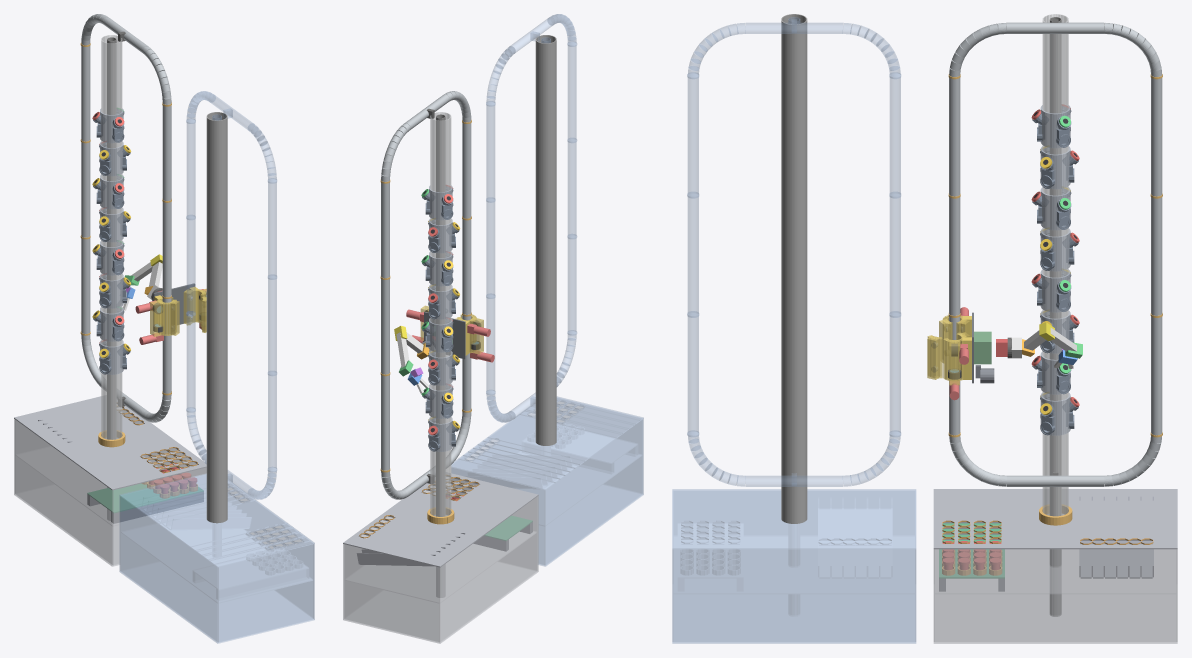
File: reach-test-turn90-example-v1.glb
3 renders of one model, left to right at view 1: azimuth 30°, elevation 25°; view 2: azimuth 150°, elevation 25°; view 3: azimuth 270°, elevation 25°, orthographic. The views are drawn at different scales.
Size of the model in its own units: 0.486 by 1.9 by 1.45.
